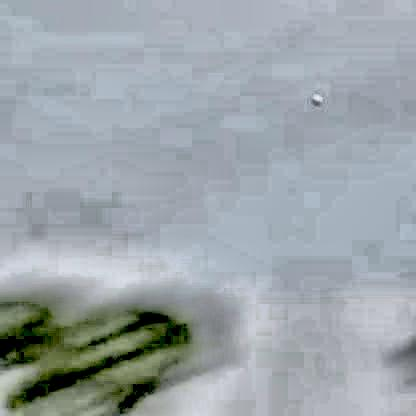golfball: (306, 94, 322, 105)
